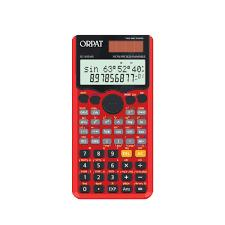Calculator: (66, 29, 162, 204)
